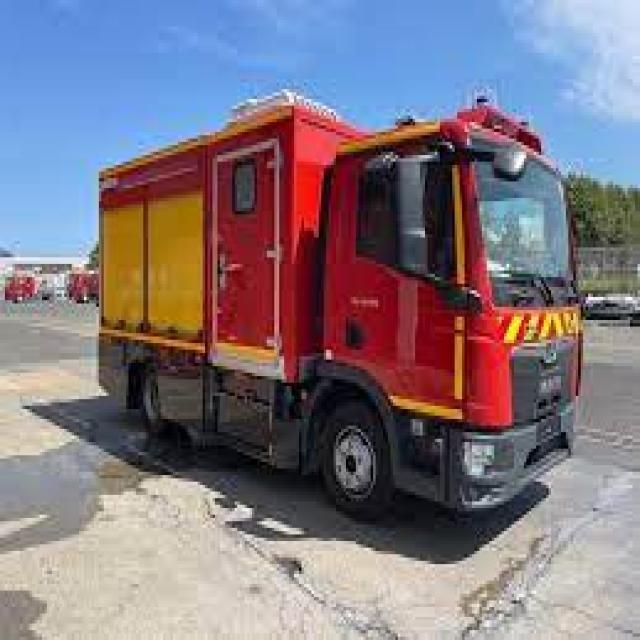Protection Civile: (80, 91, 598, 542)
